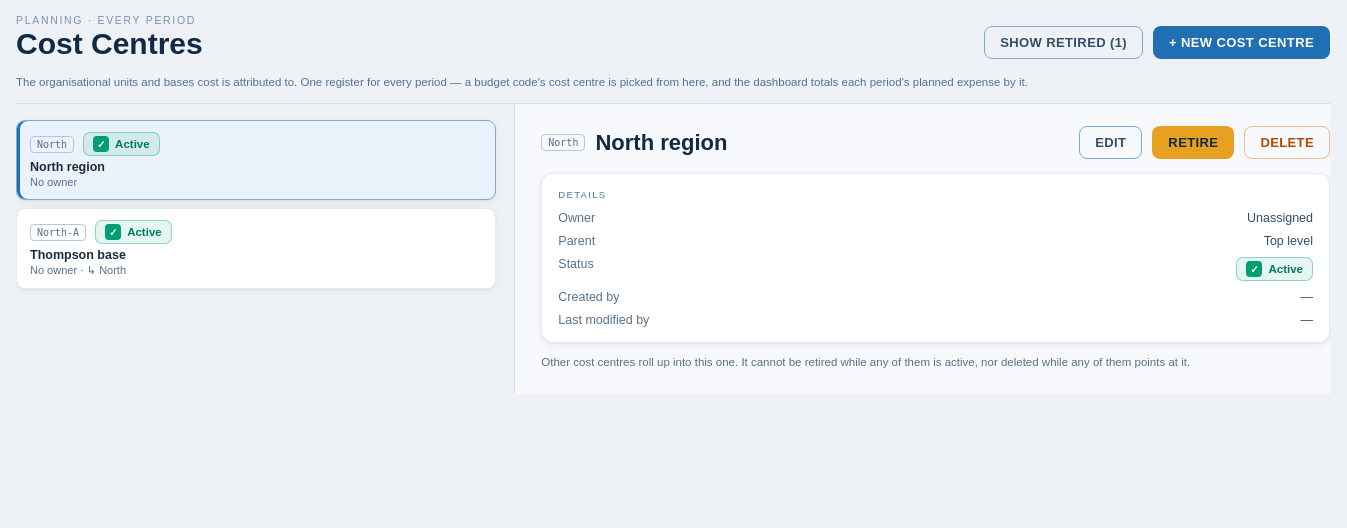
Test: CostCentres screen › binds a delete's InUse 409 to its entry: selecting another clears it, and nothing retires that one
The image size is (1347, 528).
// Entry A (North, the first row) — delete refused as InUse.
Click the text "DELETE" at (1287, 143), box [1244, 126, 1330, 159]
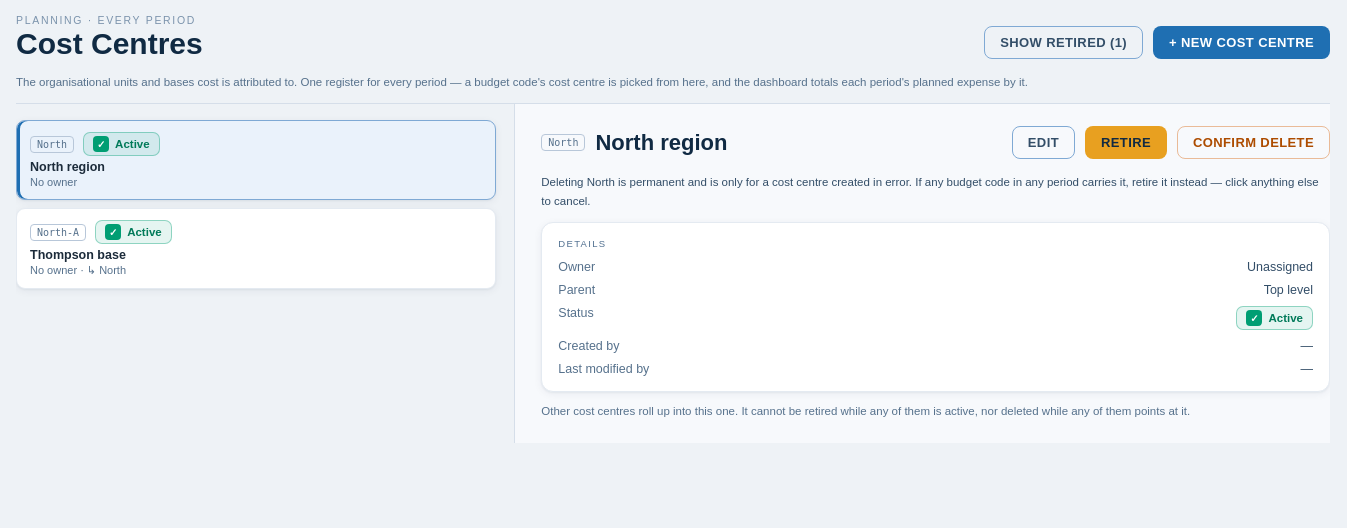
Click the text "CONFIRM DELETE" at (1254, 143), box [1177, 126, 1330, 159]
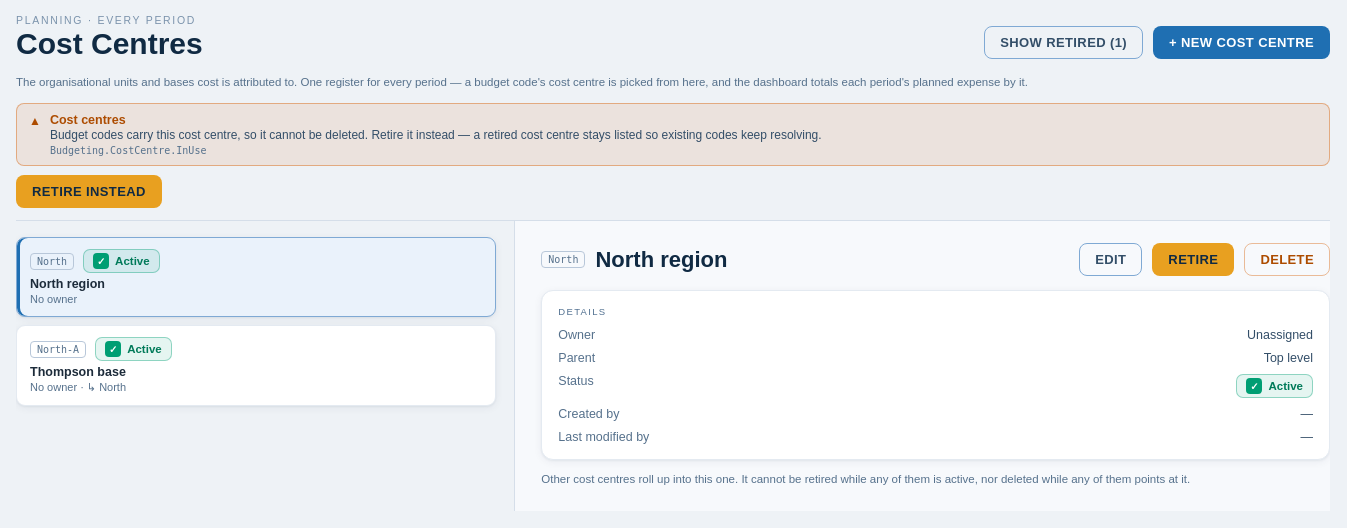
Expected: the text "Budget codes carry this cost centre, so it cannot be deleted. Retire it instead — a retired cost centre stays listed so " is shown, [50, 128, 822, 142]
Expected: the text "RETIRE INSTEAD" is shown, [16, 175, 162, 208]
// Select entry B: the refusal was about A, so neither the banner nor the offer follows.
Click the element with test id "cost-centre-row" that starts with "North-A" at (256, 366), box [16, 325, 496, 406]
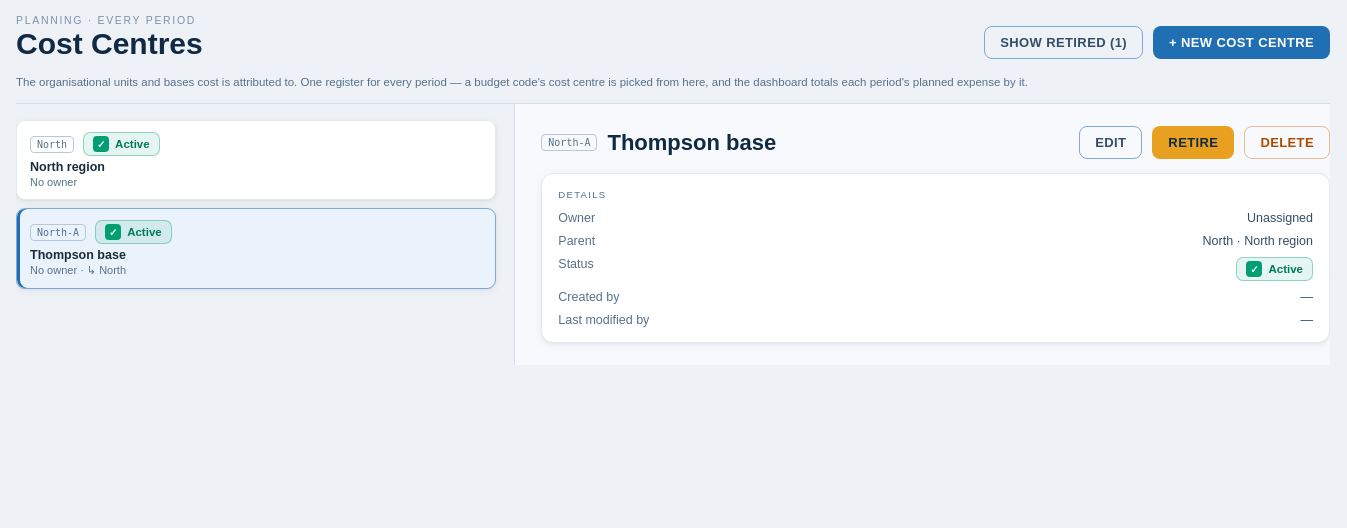
Expected: the text "Budget codes carry this cost centre, so it cannot be deleted. Retire it instead — a retired cost centre stays listed so " is gone
Expected: the text "RETIRE INSTEAD" is gone
